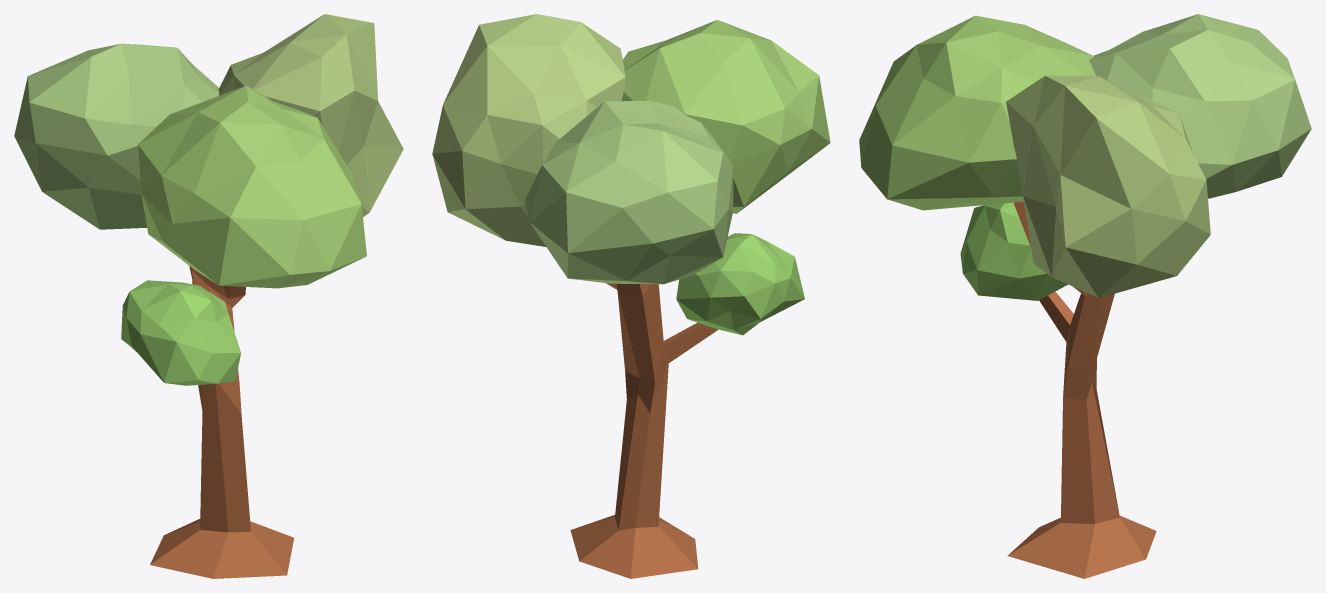
Rendered from Tree1.fbx.
The picture shows the model from 3 angles, left to right: view 1: azimuth 30°, elevation 25°; view 2: azimuth 150°, elevation 25°; view 3: azimuth 270°, elevation 25°; orthographic projection. The views are drawn at different scales.
Parts seen in each view (by area): view 1: Bush4, Bush1, Bush2, Tree, Bush3; view 2: Bush1, Bush2, Bush4, Tree, Bush3; view 3: Bush2, Bush4, Bush1, Tree, Bush3.
Part boxes in pixels (x1,y1,x2,y2): Bush4: (138,85,366,288); Bush1: (14,43,219,229); Bush2: (218,14,403,216); Tree: (150,266,294,578); Bush3: (121,280,240,385); Bush1: (525,100,733,284); Bush2: (432,14,626,246); Bush4: (621,20,830,213); Tree: (570,283,718,578); Bush3: (676,233,804,335); Bush2: (1006,75,1210,297); Bush4: (859,15,1095,210); Bush1: (1089,14,1311,198); Tree: (1007,201,1156,578); Bush3: (960,202,1067,300).
Bounding box in the file's own units: 411 × 629 × 501.
